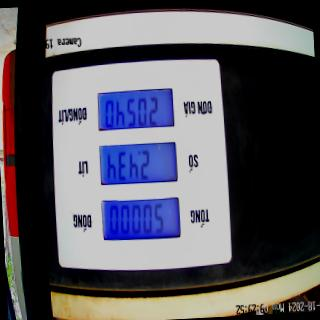screen: (93, 84, 183, 245)
